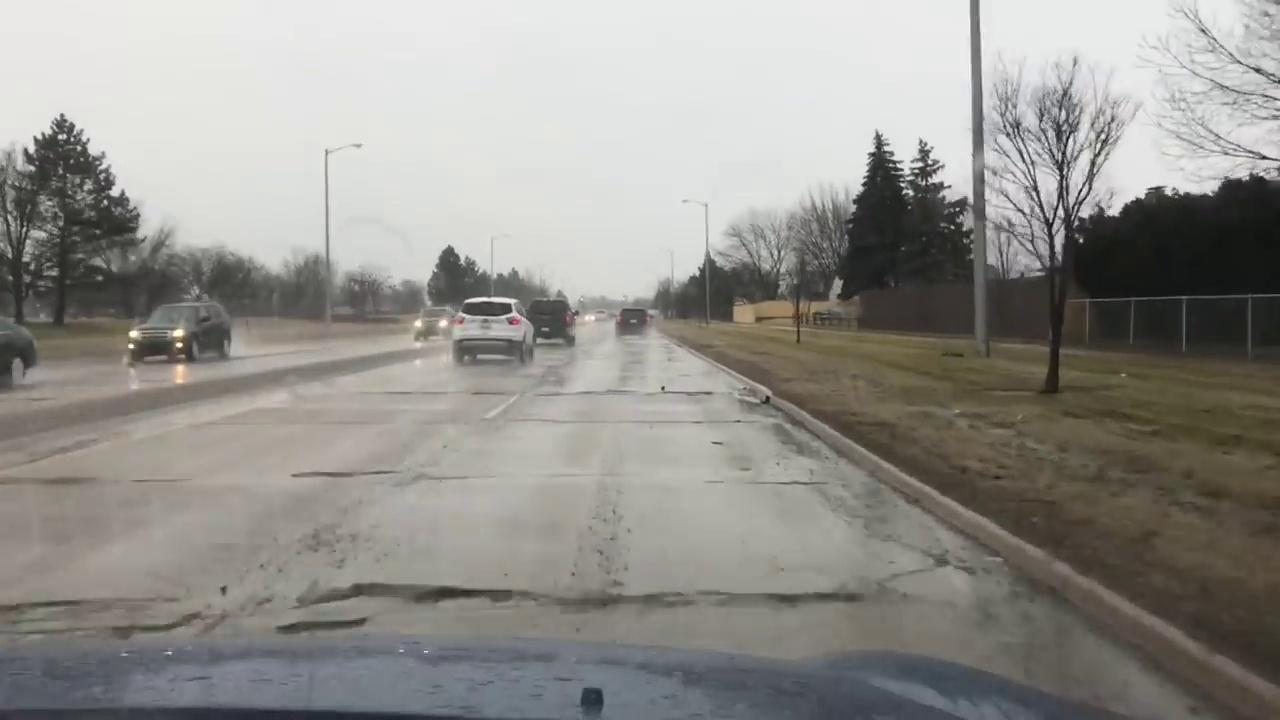pothole: (737, 397, 989, 562), (285, 579, 524, 613), (284, 468, 402, 480)
